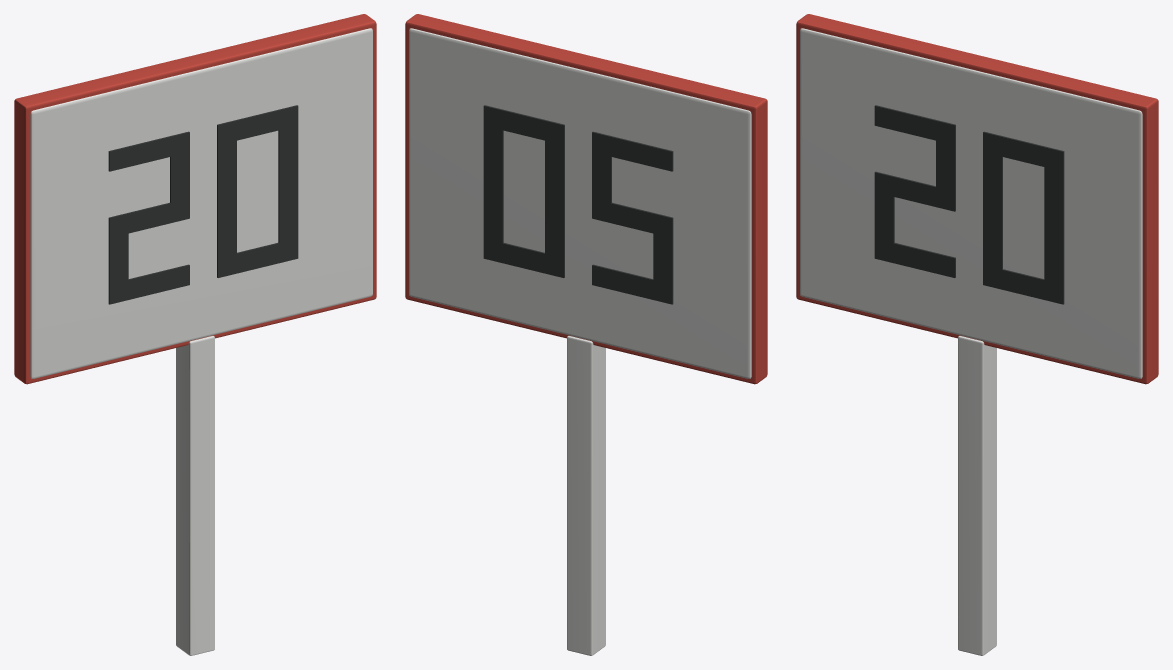
The model's file is sport.stunt.yard_board_20.glb.
The picture shows the model from 3 angles, left to right: view 1: azimuth 30°, elevation 25°; view 2: azimuth 150°, elevation 25°; view 3: azimuth 330°, elevation 25°; orthographic projection.
Visible parts, largest first — view 1: main__paint_eed, main__paint_333, main__paint_c44; view 2: main__paint_eed, main__paint_333, main__paint_c44; view 3: main__paint_eed, main__paint_333, main__paint_c44.
Part boxes in pixels (bbox=[...]): main__paint_eed: bbox=[30, 28, 372, 655]; main__paint_333: bbox=[108, 105, 298, 304]; main__paint_c44: bbox=[14, 14, 376, 384]; main__paint_eed: bbox=[409, 28, 751, 655]; main__paint_333: bbox=[483, 105, 673, 304]; main__paint_c44: bbox=[405, 14, 767, 384]; main__paint_eed: bbox=[800, 28, 1142, 655]; main__paint_333: bbox=[874, 105, 1064, 304]; main__paint_c44: bbox=[796, 14, 1158, 384].
Size of the model in its own units: 0.82 by 1.31 by 0.068.
